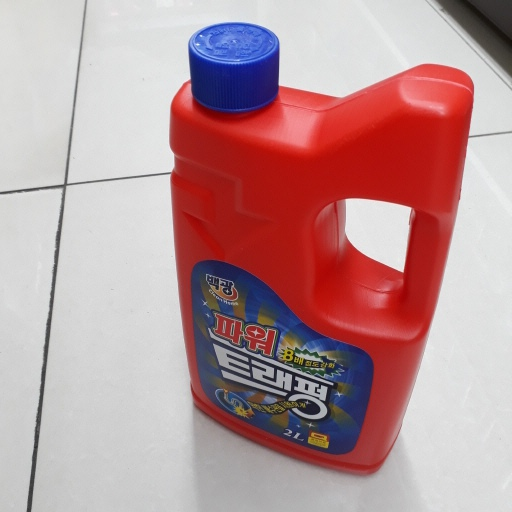Plastic_1: (168, 22, 475, 484)
